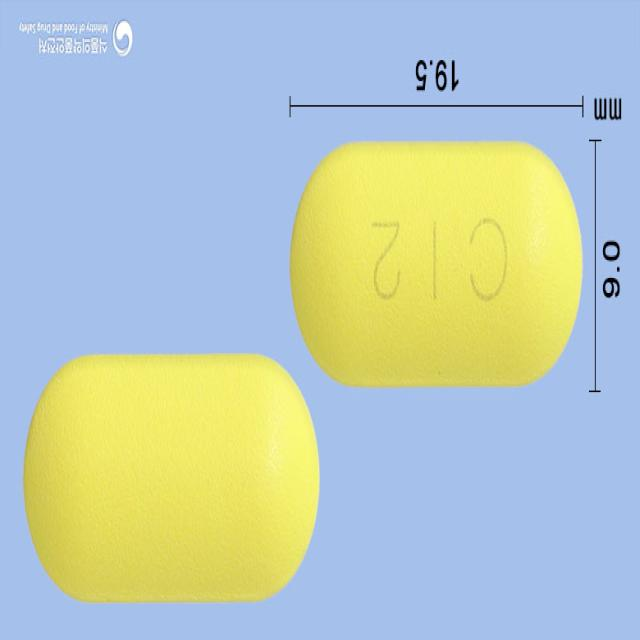Ceprion Cap: (22, 352, 318, 603), (290, 144, 583, 388)
